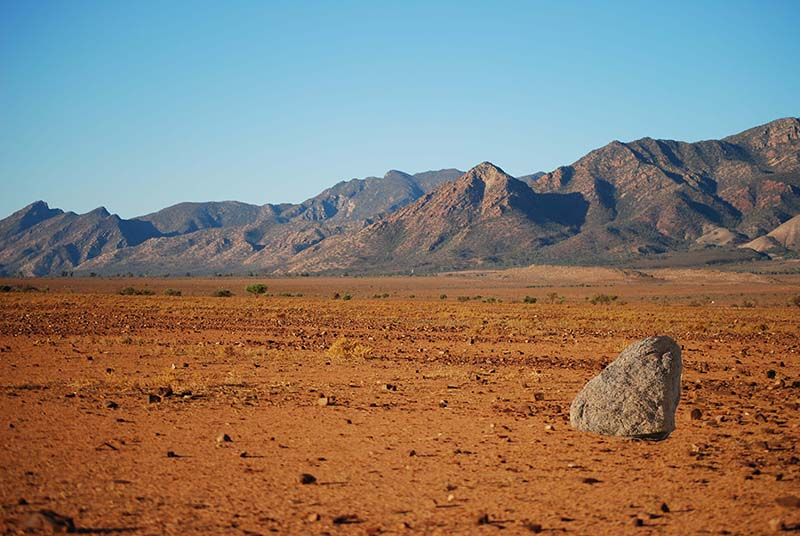Rocks: (567, 333, 692, 442)
